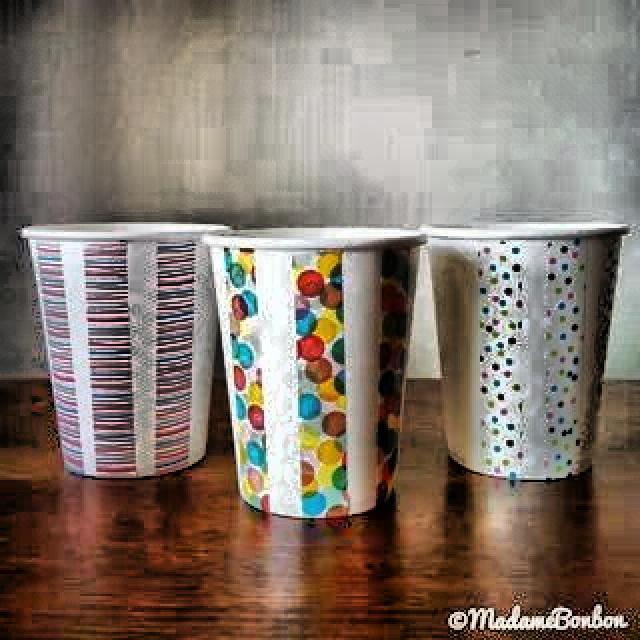Cup: (203, 225, 430, 525), (420, 216, 624, 492), (22, 212, 222, 482)
